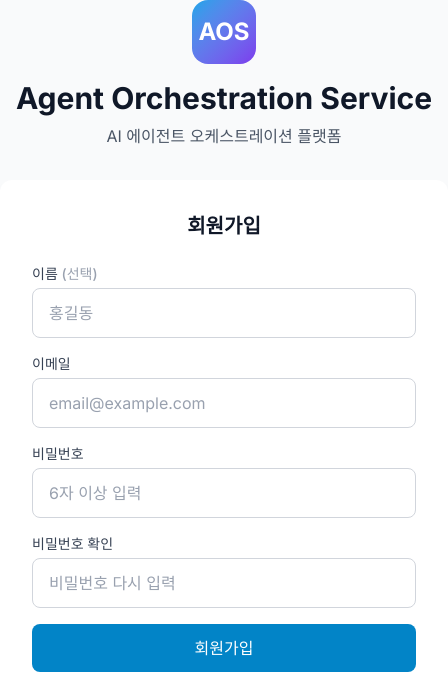
it: RegisterPage › shows error when password too short
Type "test@test.com" into the field labelled "이메일".
click(224, 403); type("test@test.com")  # box x1=32 y1=378 x2=416 y2=428
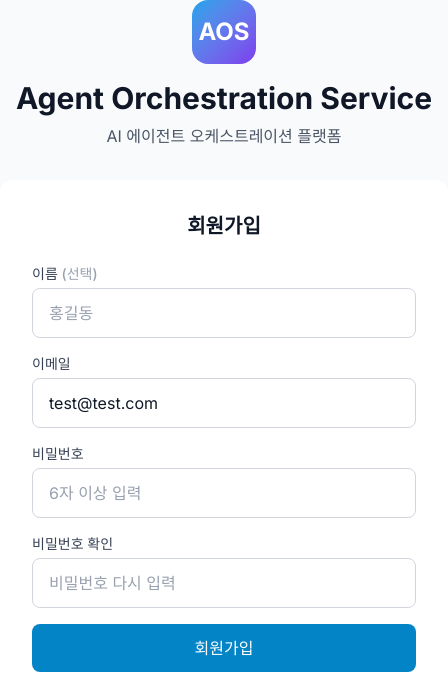
Type "12345" into the password field labelled "비밀번호".
click(224, 493); type("12345")  # box x1=32 y1=468 x2=416 y2=518
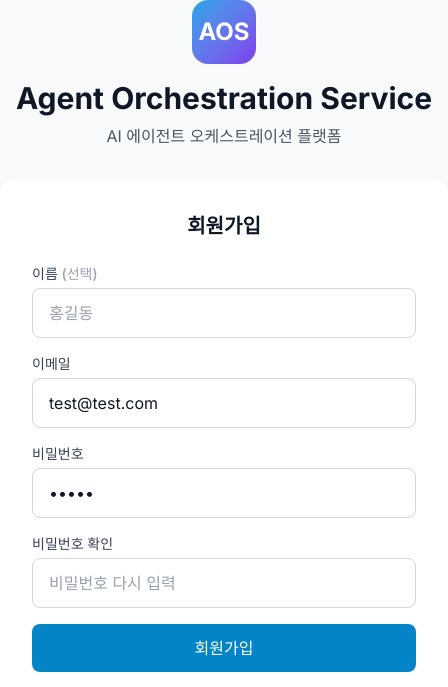
Type "12345" into the password field labelled "비밀번호 확인".
click(224, 583); type("12345")  # box x1=32 y1=558 x2=416 y2=608
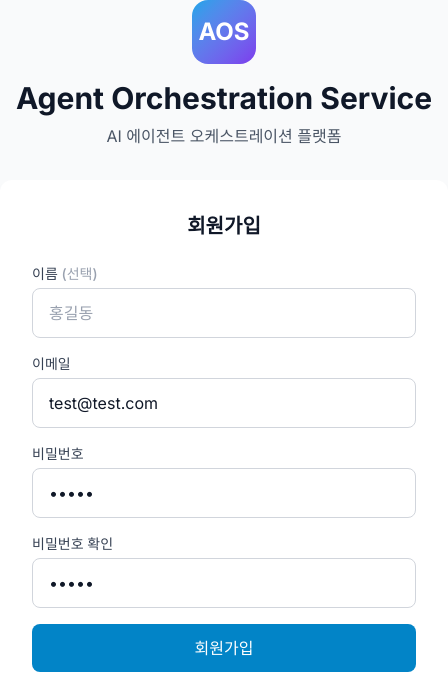
Submit the form from the button "회원가입", box x1=32 y1=624 x2=416 y2=672
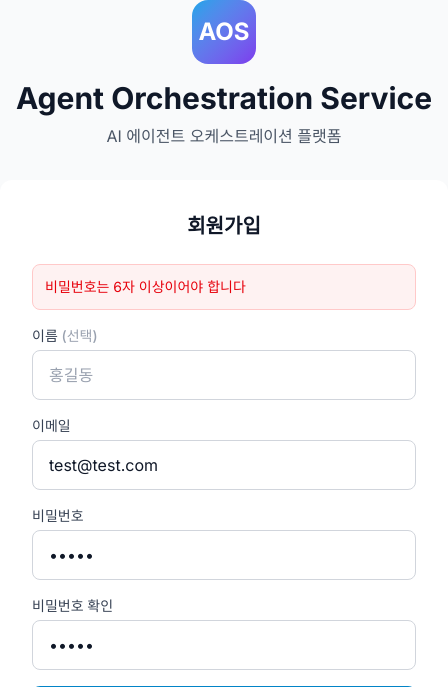
Check: the text "비밀번호는 6자 이상이어야 합니다" is shown, box x1=32 y1=264 x2=416 y2=310
